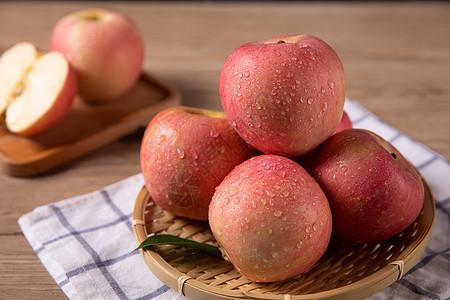apple: (209, 151, 335, 278), (217, 30, 343, 151), (302, 127, 424, 244), (140, 107, 252, 221), (47, 7, 144, 103)
